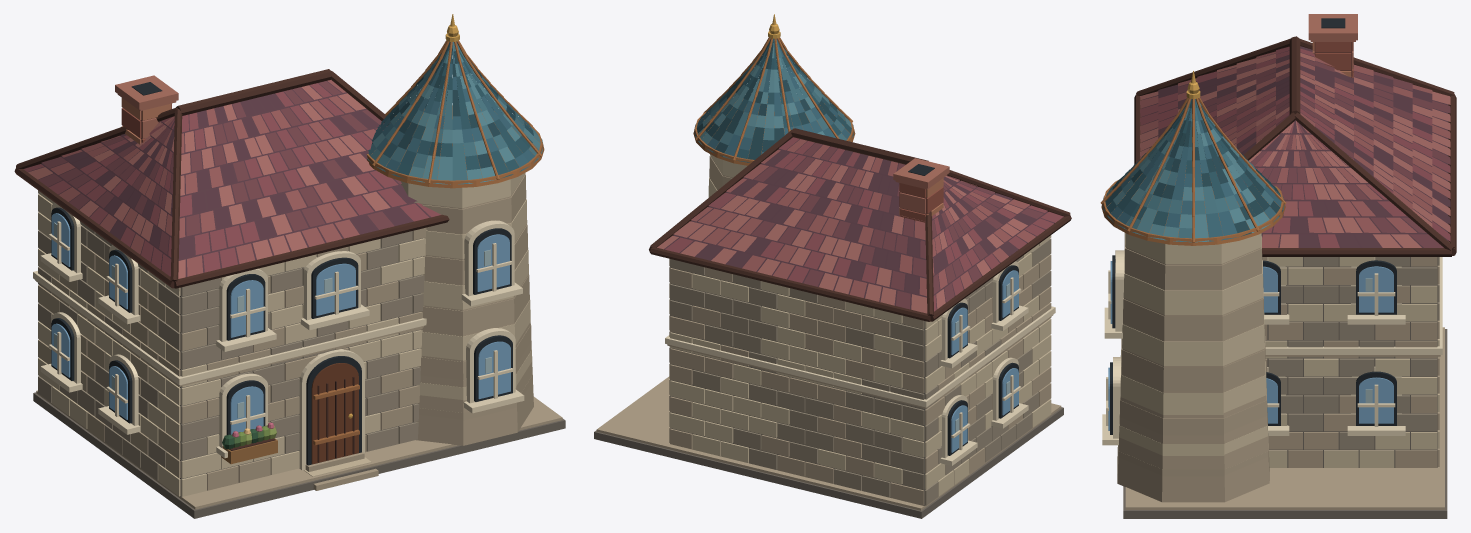
The model's file is moradia-nivel-6.glb.
3 views of the same model, side by side, from view 1: azimuth 30°, elevation 25°; view 2: azimuth 150°, elevation 25°; view 3: azimuth 270°, elevation 25° (orthographic). The views are drawn at different scales.
Visible parts, largest first — view 1: Moradia 06 #b4a38a, Moradia 06 #cebea0, Moradia 06 #9b8f7c, Moradia 06 #e6d7ba, Moradia 06 #593b44, Moradia 06 #4c3028, Moradia 06 #824a50, Moradia 06 #567185, Moradia 06 #9e645f, Moradia 06 #70444a, Moradia 06 #8f5655, Moradia 06 #746c62 (+11 smaller); view 2: Moradia 06 #b4a38a, Moradia 06 #cebea0, Moradia 06 #9b8f7c, Moradia 06 #593b44, Moradia 06 #9e645f, Moradia 06 #4c3028, Moradia 06 #746c62, Moradia 06 #e6d7ba, Moradia 06 #8f5655, Moradia 06 #70444a, Moradia 06 #824a50, Moradia 06 #a76e42 (+9 smaller); view 3: Moradia 06 #b4a38a, Moradia 06 #cebea0, Moradia 06 #593b44, Moradia 06 #9b8f7c, Moradia 06 #9e645f, Moradia 06 #4c3028, Moradia 06 #8f5655, Moradia 06 #e6d7ba, Moradia 06 #70444a, Moradia 06 #746c62, Moradia 06 #824a50, Moradia 06 #a76e42 (+9 smaller).
Part boxes in pixels (x1=…): Moradia 06 #b4a38a: x1=35, y1=174, x2=562, y2=509; Moradia 06 #cebea0: x1=38, y1=172, x2=532, y2=496; Moradia 06 #9b8f7c: x1=38, y1=221, x2=424, y2=480; Moradia 06 #e6d7ba: x1=33, y1=203, x2=524, y2=470; Moradia 06 #593b44: x1=28, y1=81, x2=430, y2=276; Moradia 06 #4c3028: x1=14, y1=69, x2=449, y2=462; Moradia 06 #824a50: x1=23, y1=83, x2=440, y2=276; Moradia 06 #567185: x1=51, y1=213, x2=510, y2=434; Moradia 06 #9e645f: x1=28, y1=85, x2=390, y2=278; Moradia 06 #70444a: x1=38, y1=81, x2=401, y2=254; Moradia 06 #8f5655: x1=50, y1=80, x2=375, y2=276; Moradia 06 #746c62: x1=33, y1=238, x2=565, y2=518; Moradia 06 #b4a38a: x1=596, y1=155, x2=1061, y2=510; Moradia 06 #cebea0: x1=669, y1=154, x2=1051, y2=496; Moradia 06 #9b8f7c: x1=669, y1=238, x2=1051, y2=505; Moradia 06 #593b44: x1=664, y1=139, x2=1054, y2=309; Moradia 06 #9e645f: x1=657, y1=156, x2=1027, y2=313; Moradia 06 #4c3028: x1=649, y1=128, x2=1071, y2=321; Moradia 06 #746c62: x1=594, y1=267, x2=1063, y2=518; Moradia 06 #e6d7ba: x1=665, y1=261, x2=1055, y2=465; Moradia 06 #8f5655: x1=691, y1=139, x2=1035, y2=297; Moradia 06 #70444a: x1=751, y1=143, x2=1043, y2=309; Moradia 06 #824a50: x1=665, y1=137, x2=1063, y2=311; Moradia 06 #a76e42: x1=693, y1=37, x2=855, y2=165; Moradia 06 #b4a38a: x1=1117, y1=233, x2=1444, y2=509; Moradia 06 #cebea0: x1=1119, y1=233, x2=1439, y2=467; Moradia 06 #593b44: x1=1142, y1=46, x2=1450, y2=247; Moradia 06 #9b8f7c: x1=1268, y1=257, x2=1439, y2=449; Moradia 06 #9e645f: x1=1140, y1=53, x2=1450, y2=247; Moradia 06 #4c3028: x1=1134, y1=36, x2=1456, y2=256; Moradia 06 #8f5655: x1=1140, y1=51, x2=1450, y2=247; Moradia 06 #e6d7ba: x1=1102, y1=250, x2=1442, y2=445; Moradia 06 #70444a: x1=1178, y1=57, x2=1450, y2=247; Moradia 06 #746c62: x1=1123, y1=257, x2=1447, y2=518; Moradia 06 #824a50: x1=1140, y1=46, x2=1450, y2=247; Moradia 06 #a76e42: x1=1100, y1=97, x2=1286, y2=245.
Size of the model in its own units: 7.64 by 7.63 by 6.01.
